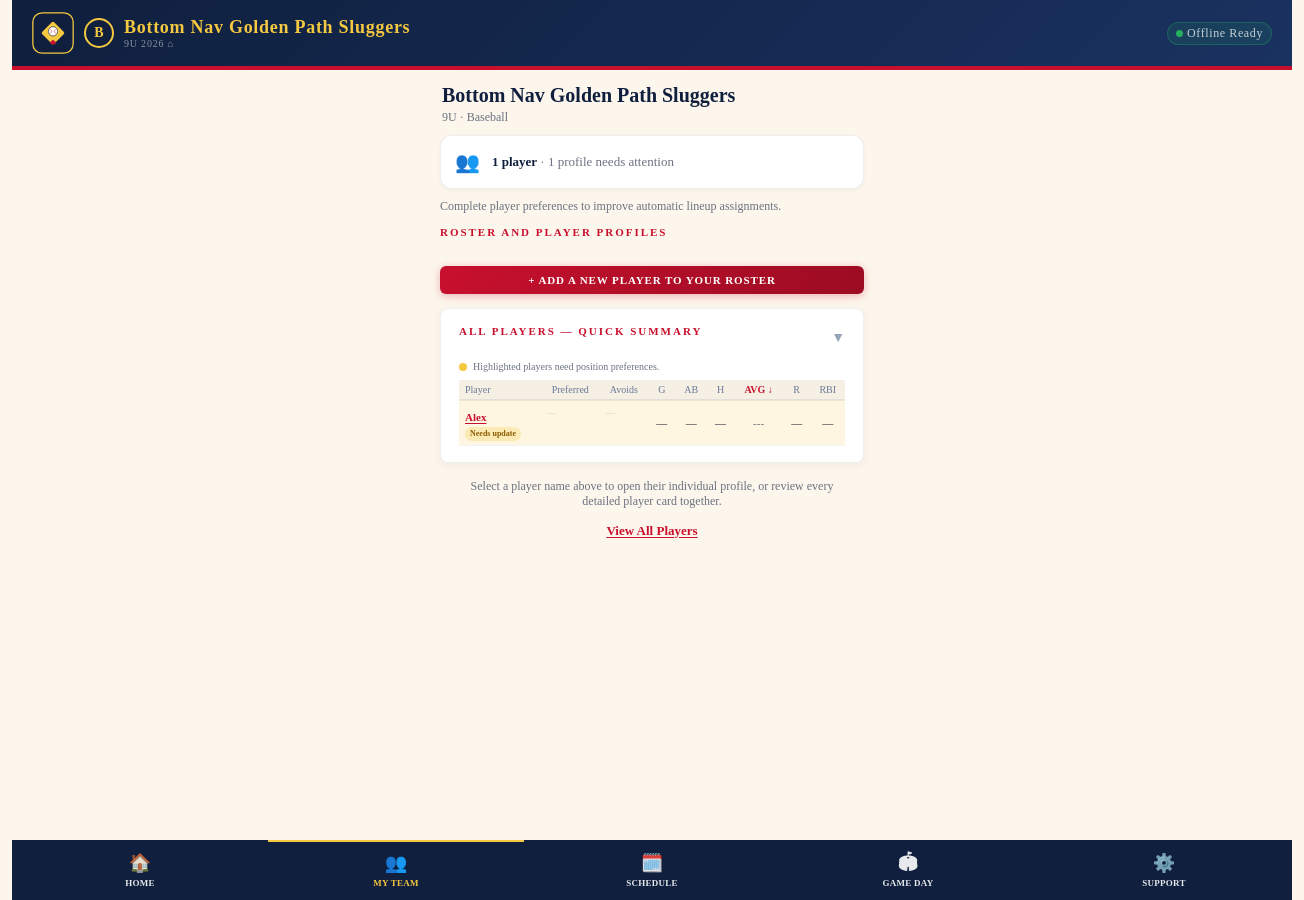
App Bottom Nav golden path (#943) › selects the contemporary Game Day entry behind UX_GAMEDAY_SETUP
Click the button "🏟 Game Day".
click(908, 870)  # box top-left (780, 840), bottom-right (1036, 899)
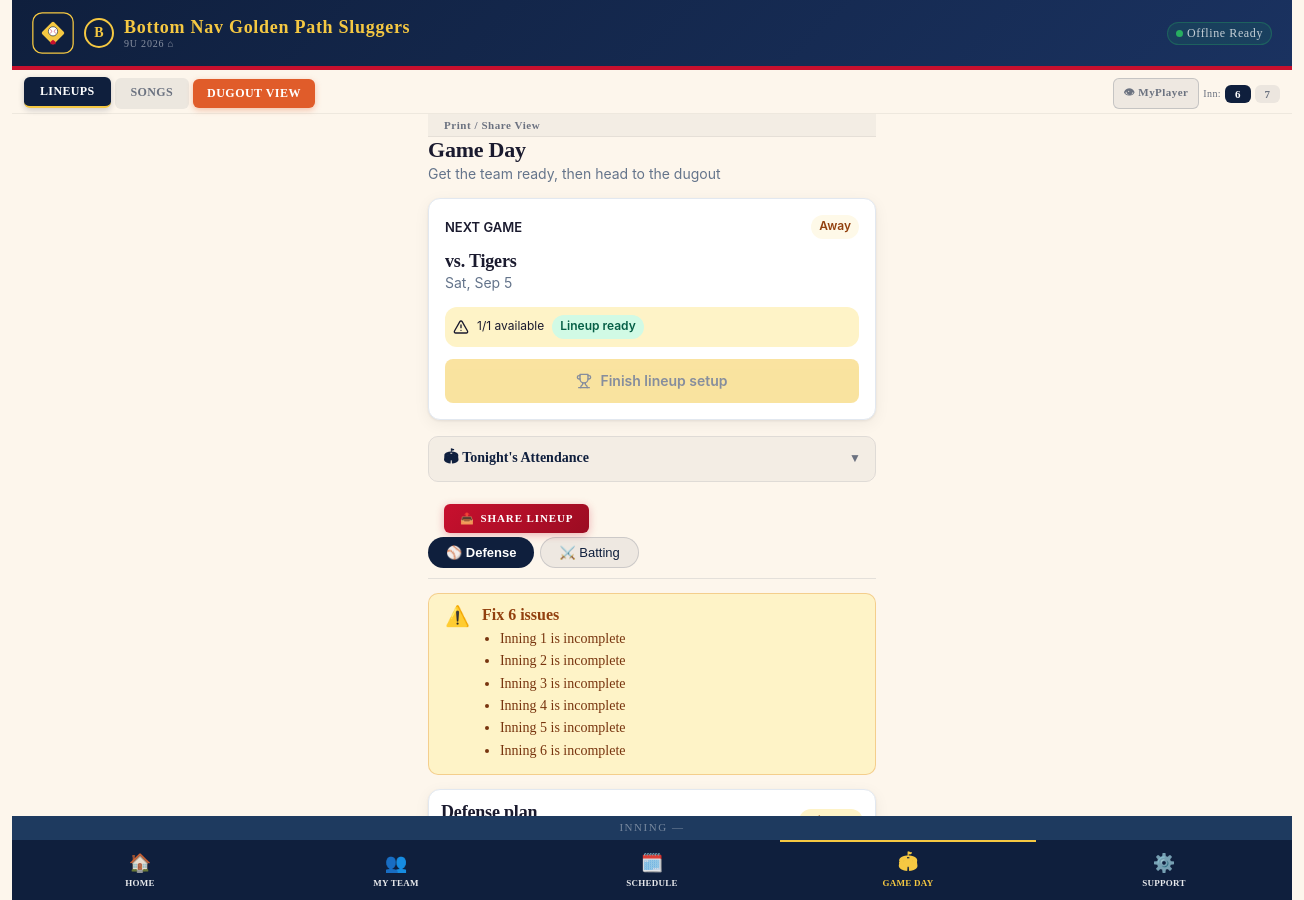
Check: the heading "Game Day" is shown, box top-left (428, 137), bottom-right (526, 162)
Check: the heading "vs. Tigers" is shown, box top-left (445, 251), bottom-right (516, 271)
Check: the button "Finish lineup setup" is disabled, box top-left (445, 359), bottom-right (859, 403)
